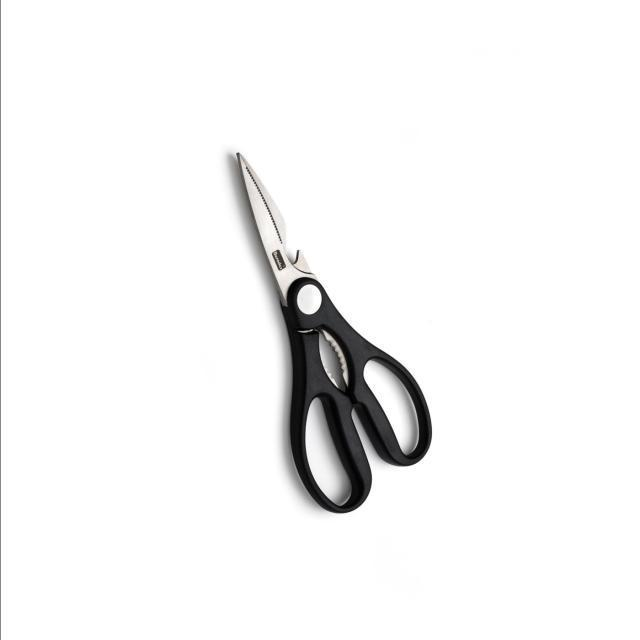Gunting: (227, 146, 431, 514)
